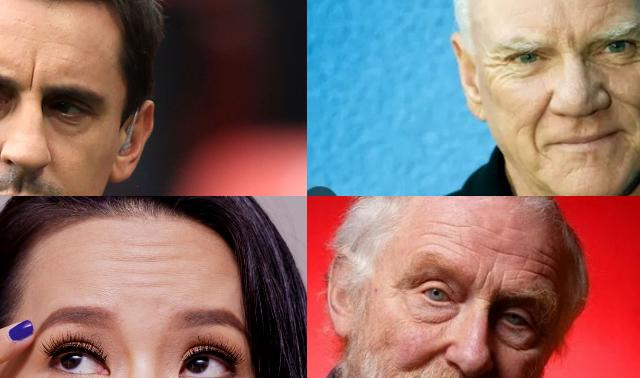crows_feet: (486, 51, 506, 74), (633, 34, 640, 66)
forehead: (115, 251, 168, 291), (528, 245, 560, 287), (428, 217, 452, 248), (479, 240, 511, 260), (600, 0, 618, 19)
frown_line: (466, 270, 502, 288), (27, 61, 39, 97)
gummy_smile: (529, 97, 551, 147), (413, 342, 441, 368)
